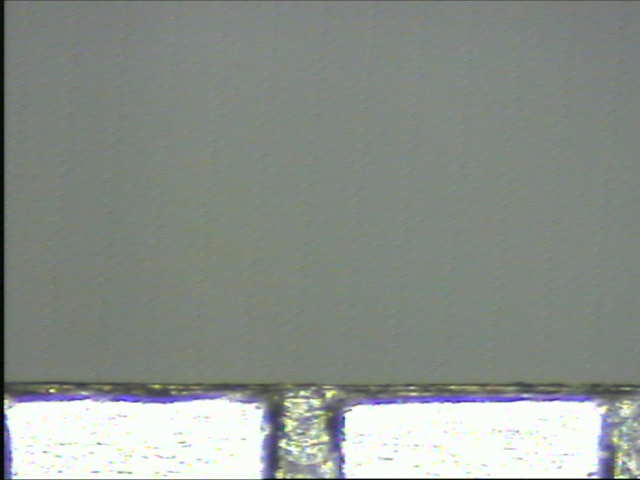line: (261, 397, 347, 477)
